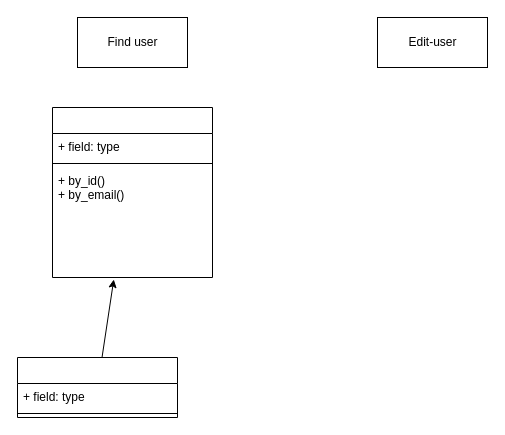
This 505x435 diagram has some shape labels left out. Each missing label, with the box of its shape:
FindUser: (16, 356, 178, 418)
interface: (52, 106, 212, 278)
